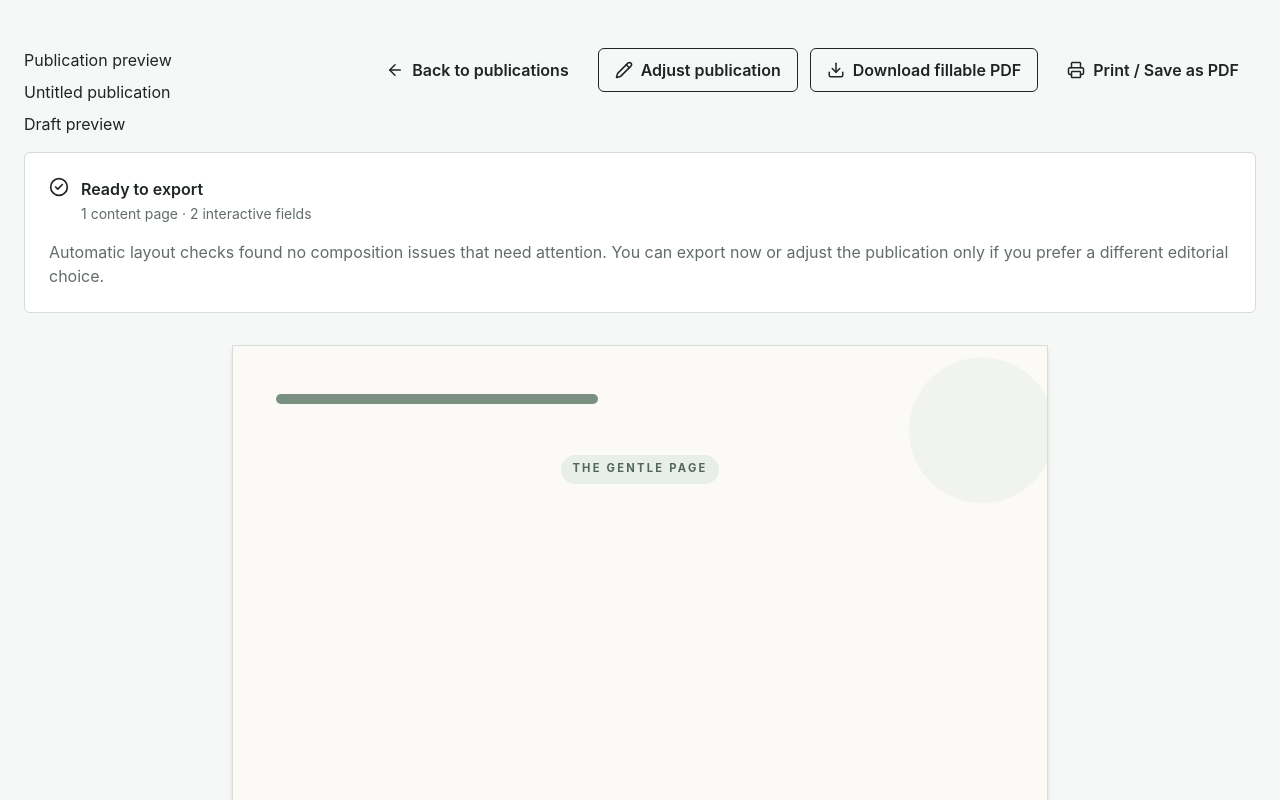
PublicationPreviewPage interactive fields › clears a previous export error when retrying
Click the button "Download fillable PDF" at (924, 70), box [810,48,1038,92]
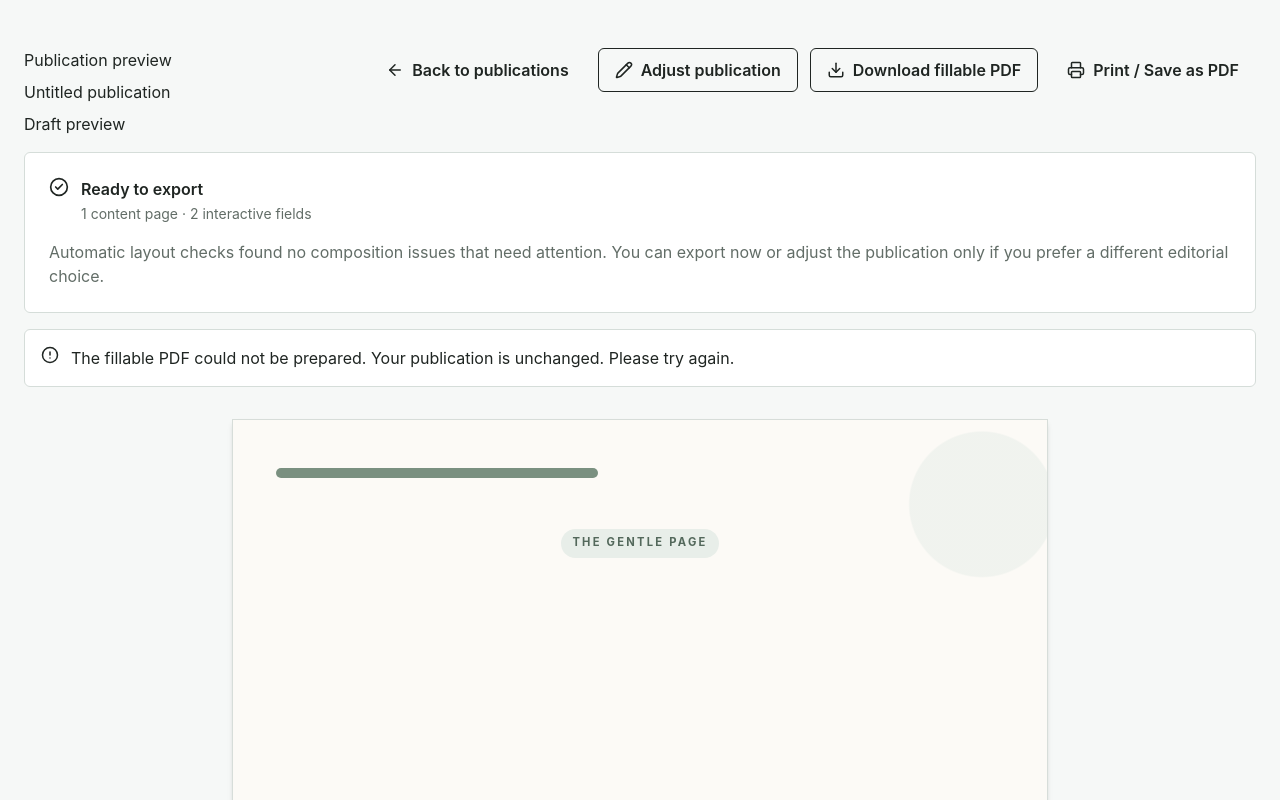
Expected: the message is shown, [24,329,1256,387]
Click the button "Download fillable PDF" at (924, 70), box [810,48,1038,92]
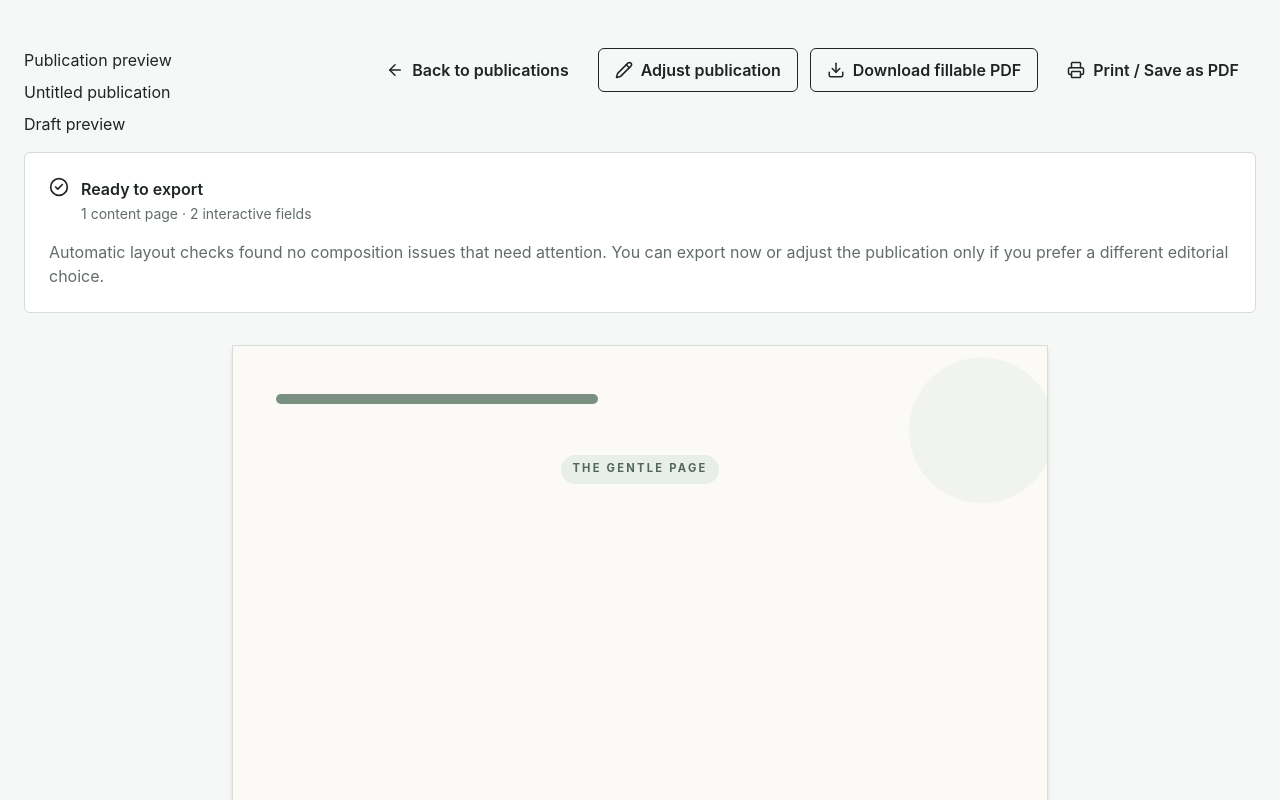
Expected: the message is gone
